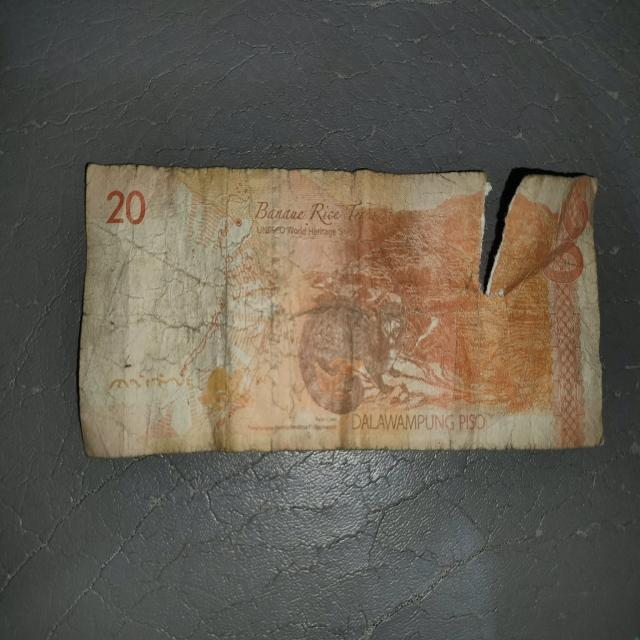broken: (79, 164, 606, 460)
torn: (452, 139, 539, 308)
